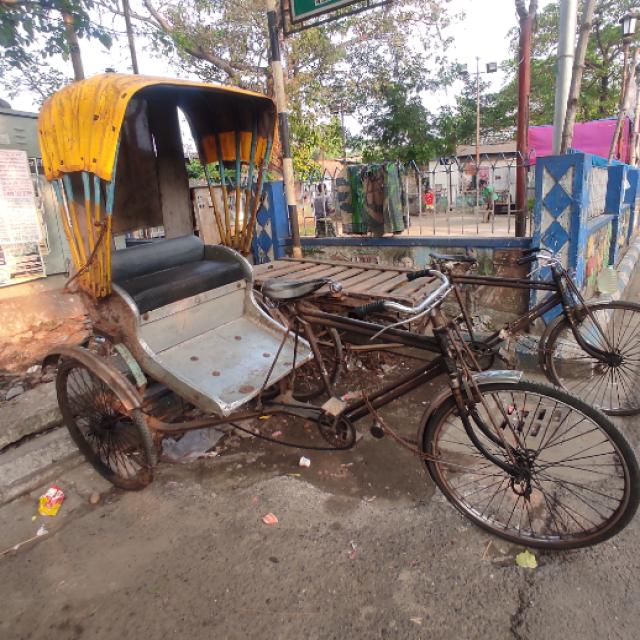rickshaw: (31, 70, 639, 574)
